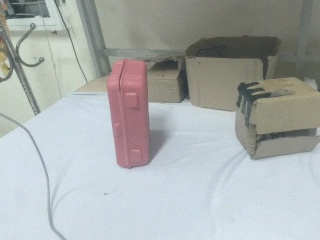box: (185, 36, 279, 110), (235, 78, 320, 159), (104, 56, 154, 170)
